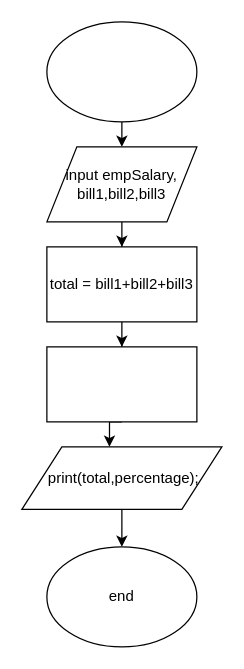
The diagram is 244 pixels wide and 669 high, and some of its shapes have lost their labels. The centre of each missing label's shape, as x and y in pixels:
"percentage = (total*100)/empSalary" goes at point 121,384.
"start" goes at point 121,71.
